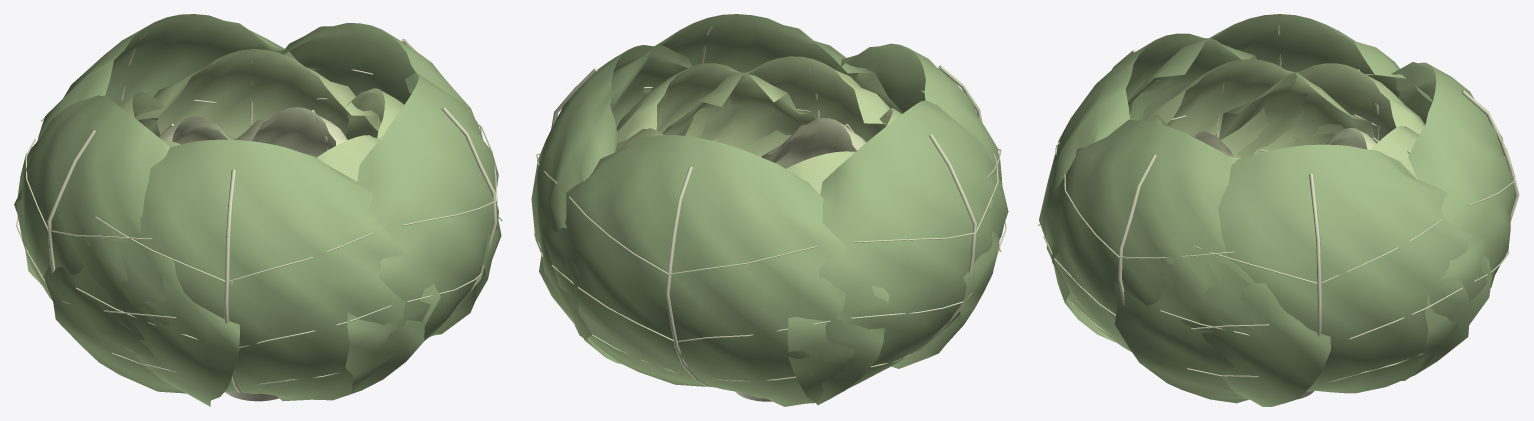
The model's file is lettuce.glb.
The picture shows the model from 3 angles, left to right: view 1: azimuth 30°, elevation 25°; view 2: azimuth 150°, elevation 25°; view 3: azimuth 270°, elevation 25°; orthographic projection. The views are drawn at different scales.
Visible parts, largest first — view 1: library-lettuce-product-lettuce-outer-leaf, library-lettuce-product-lettuce-middle-leaf, library-lettuce-product-lettuce-vein, library-lettuce-product-lettuce-heart-leaf; view 2: library-lettuce-product-lettuce-outer-leaf, library-lettuce-product-lettuce-middle-leaf, library-lettuce-product-lettuce-vein, library-lettuce-product-lettuce-heart-leaf; view 3: library-lettuce-product-lettuce-outer-leaf, library-lettuce-product-lettuce-middle-leaf, library-lettuce-product-lettuce-vein, library-lettuce-product-lettuce-heart-leaf.
Part boxes in pixels (<box>): library-lettuce-product-lettuce-outer-leaf: <box>14,14,501,406</box>; library-lettuce-product-lettuce-middle-leaf: <box>116,49,404,181</box>; library-lettuce-product-lettuce-vein: <box>16,31,502,392</box>; library-lettuce-product-lettuce-heart-leaf: <box>159,107,347,157</box>; library-lettuce-product-lettuce-outer-leaf: <box>531,14,1008,406</box>; library-lettuce-product-lettuce-middle-leaf: <box>615,56,901,194</box>; library-lettuce-product-lettuce-vein: <box>534,26,1006,387</box>; library-lettuce-product-lettuce-heart-leaf: <box>761,118,866,168</box>; library-lettuce-product-lettuce-outer-leaf: <box>1039,14,1515,406</box>; library-lettuce-product-lettuce-middle-leaf: <box>1139,59,1425,179</box>; library-lettuce-product-lettuce-vein: <box>1037,25,1519,385</box>; library-lettuce-product-lettuce-heart-leaf: <box>1192,128,1376,156</box>.
Bounding box in the file's own units: 0.1624 × 0.1154 × 0.1647.
